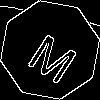M: (25, 25, 85, 86)
